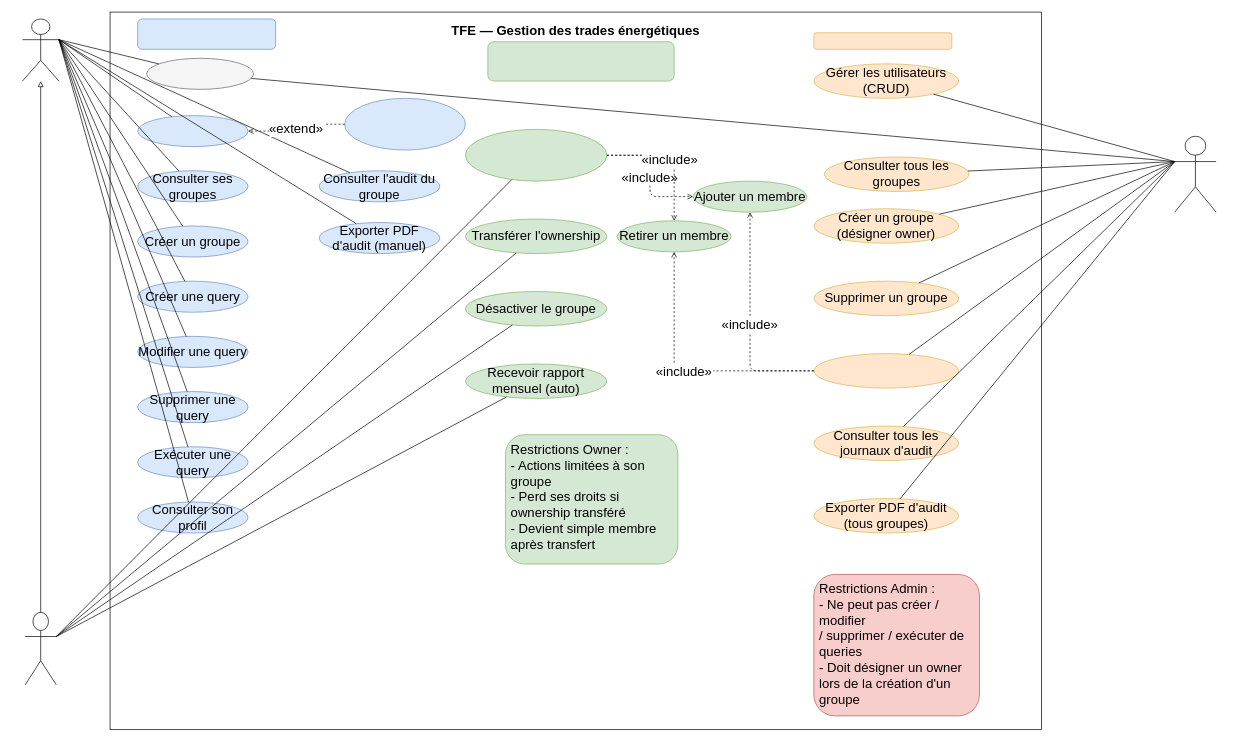
The diagram is 1252 pixels wide and 742 high, and some of its shapes have lost their labels. Here are the shapes that lost their labels. From the top down, the centre of each, then its label:
At point 40,49: "Utilisateur".
At point 206,33: "Zone Utilisateur / Membre".
At point 882,40: "Zone Administrateur".
At point 200,73: "S'authentifier".
At point 580,61: "Zone Owner — restreinte au groupe".
At point 192,131: "Consulter les deals".
At point 404,124: "Filtrer / Rechercher les deals".
At point 536,155: "Gérer les membres du groupe".
At point 1195,174: "Administrateur".
At point 886,370: "Gérer les membres (tout groupe)".
At point 40,648: "Owner".
